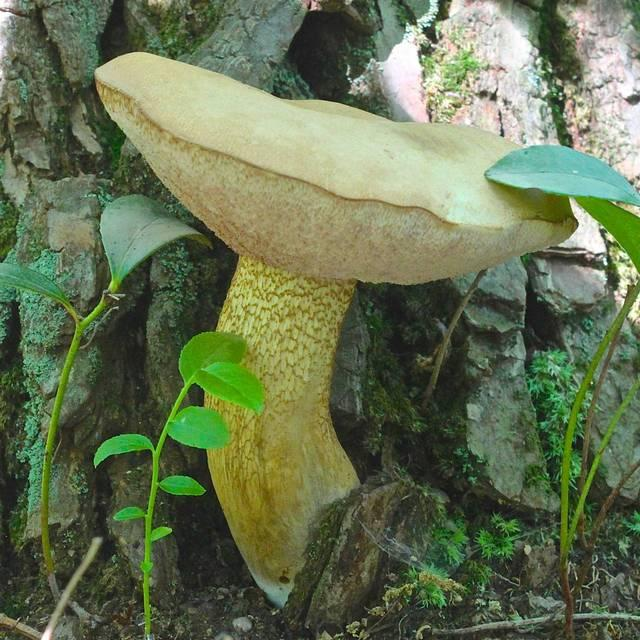Non-edible Mushroom: (91, 48, 580, 610)
